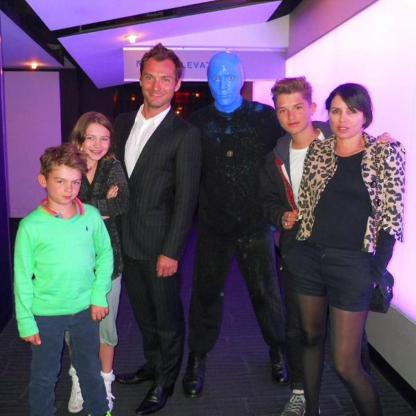face: (143, 61, 176, 107), (209, 62, 242, 106), (280, 93, 311, 135), (331, 99, 364, 137), (50, 168, 82, 206), (84, 125, 110, 161)
